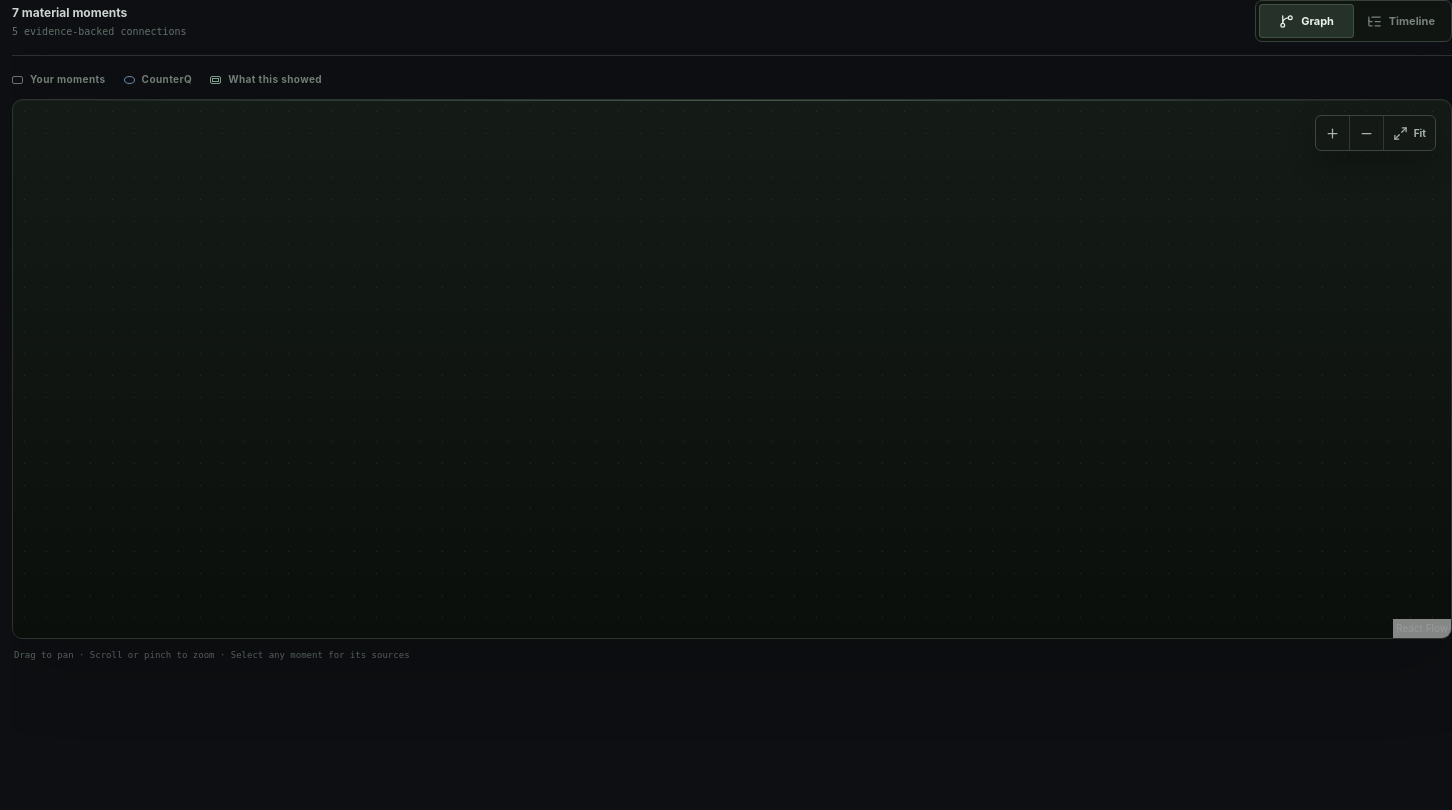
Scenario: Stage 7B interactive CounterMap › switches Graph and Timeline without fetching or regenerating projection data
Click the button "Timeline".
click(1401, 21)  # box [1354,4,1448,38]
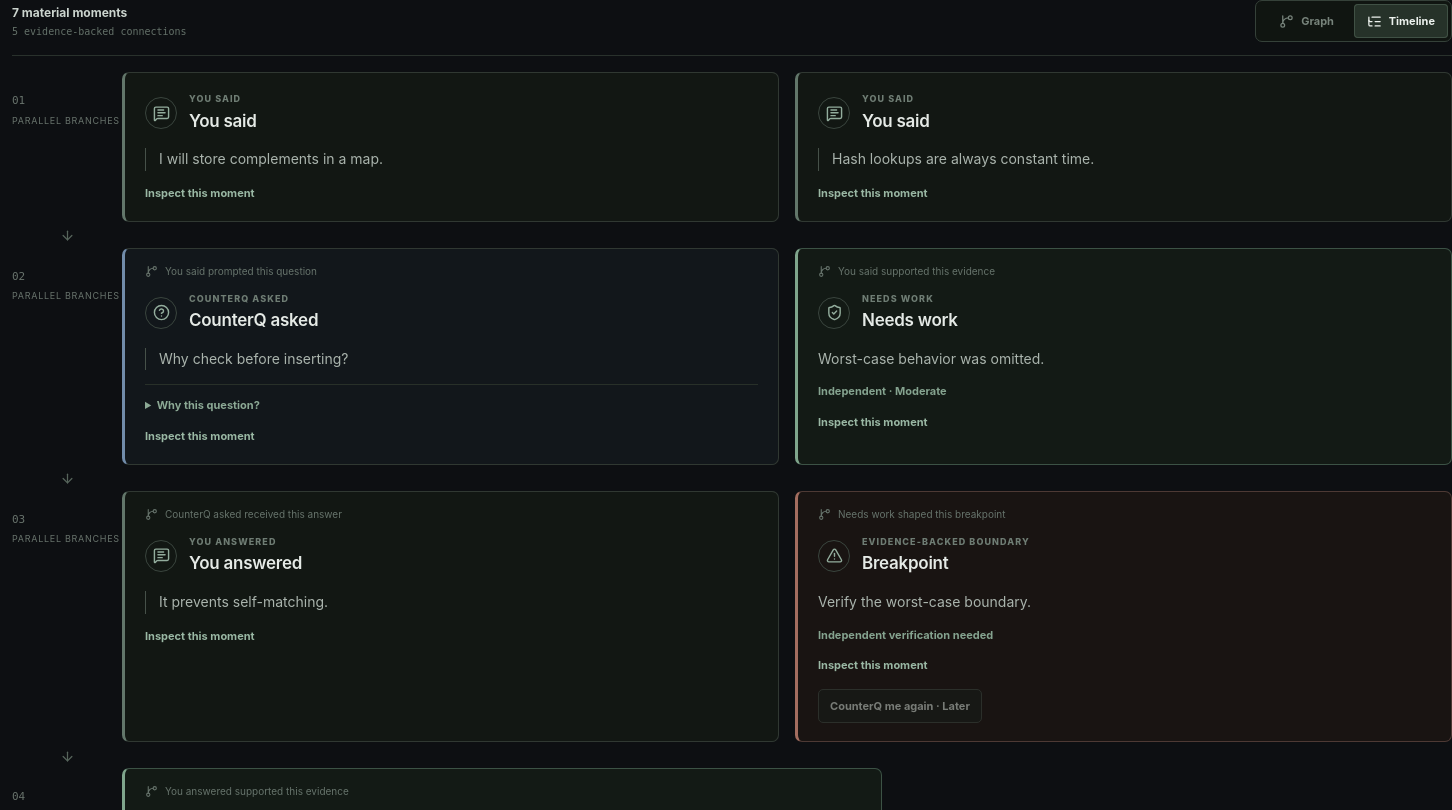
Click the button "Graph".
click(1307, 21)  # box [1259,4,1354,38]
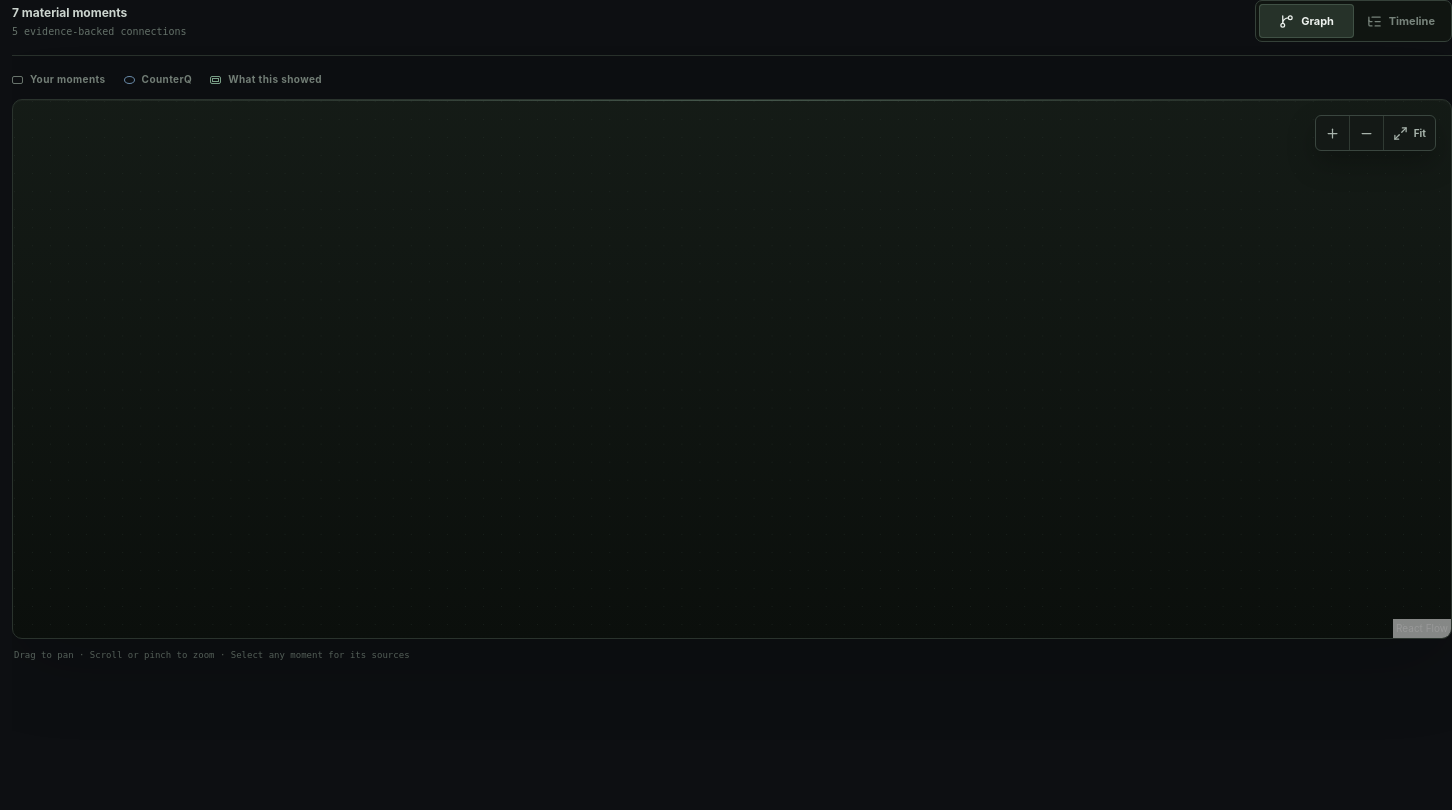
Expected: the element named "interactive countermap graph" is shown
